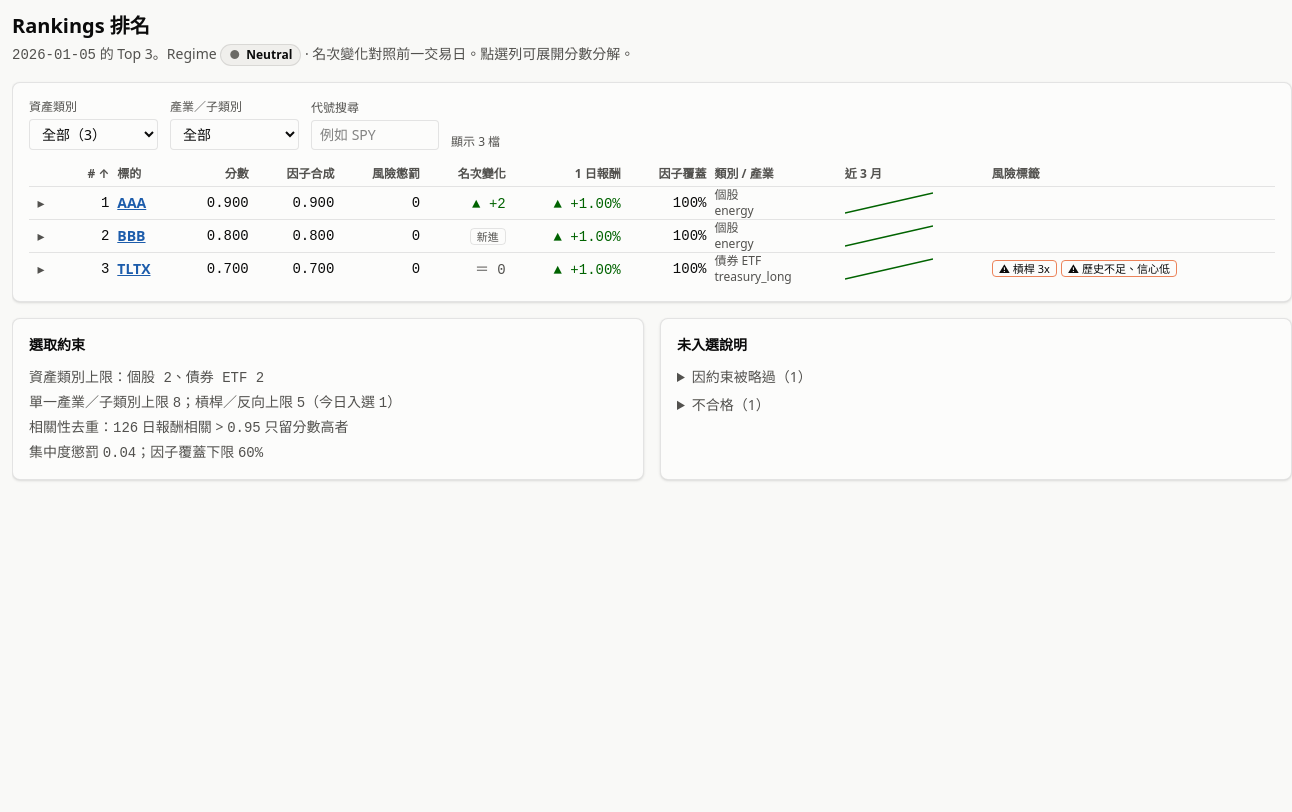
Test: Rankings page (FIXTURE) › renders rows, filters by asset class and expands the score breakdown
Expected: the links read "AAA", "BBB", "TLTX", in this order, [117,193,146,212]; [117,226,146,245]; [117,259,150,278]
Expected: the text "新進" is shown, [470,228,506,245]
Select "債券 ETF（1）" in the dropdown labelled "資產類別". click: (94, 134)
box: [29,119,158,150]
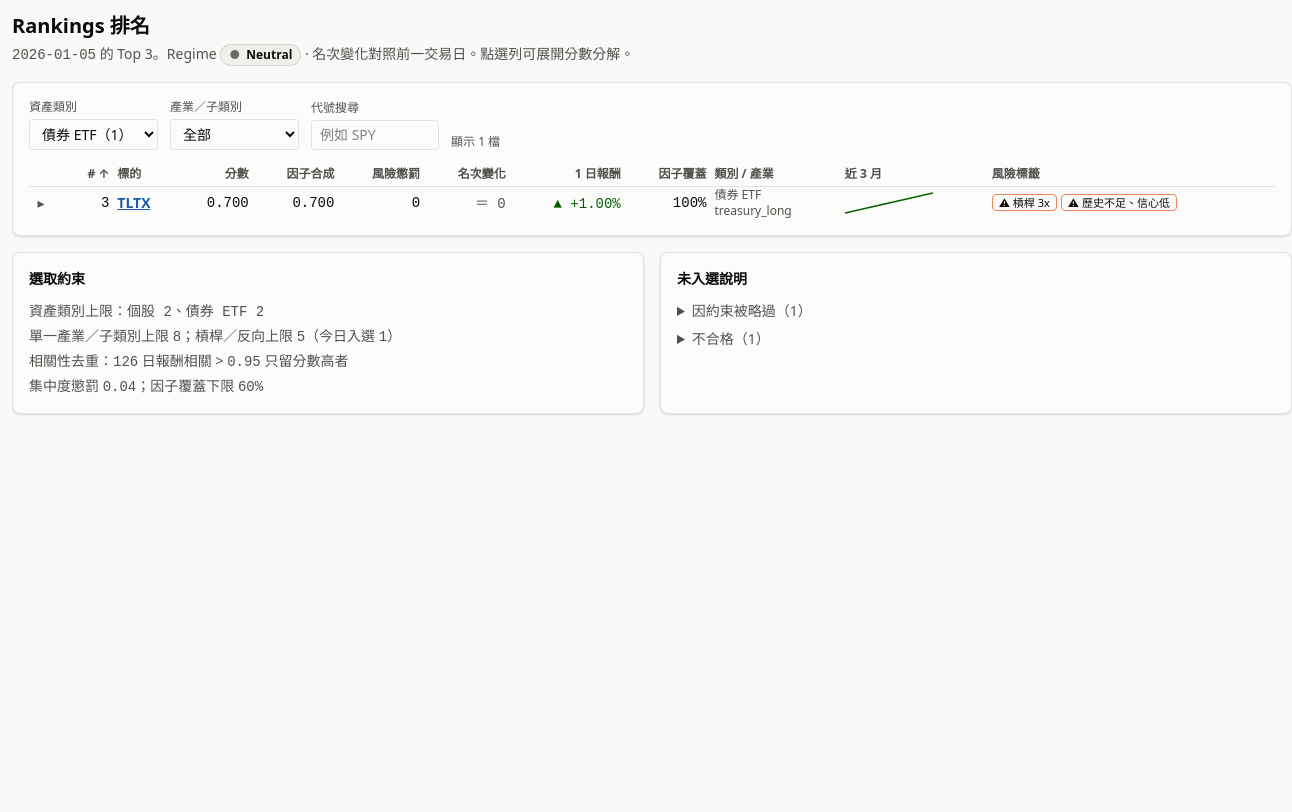
Now the links read "TLTX", in this order, box [117,193,150,212]
Click the button named "展開 TLTX 分數分解". click: (41, 203)
box: [29,191,53,215]
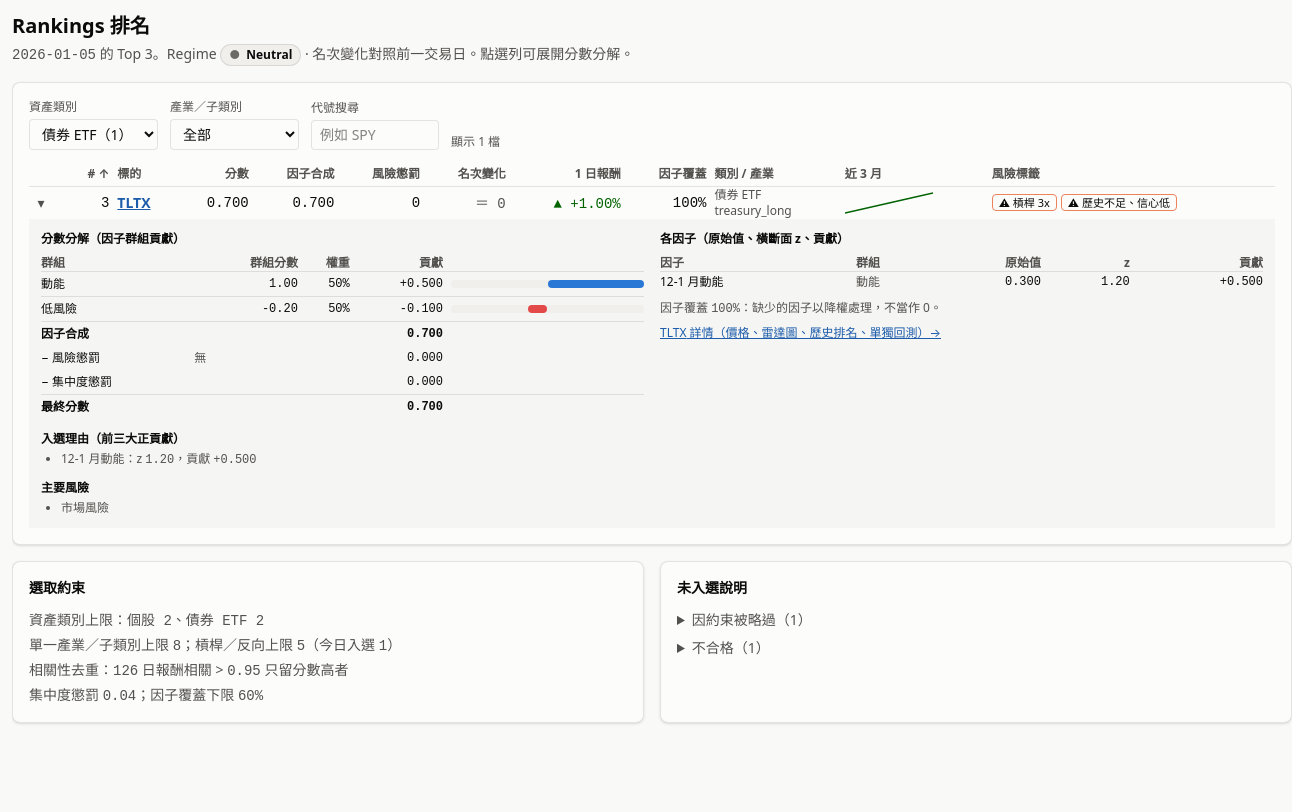
Now the heading "分數分解（因子群組貢獻）" is shown, box [41,230,185,247]
Now the button named "收合 TLTX 分數分解" is expanded, box [29,191,53,215]
